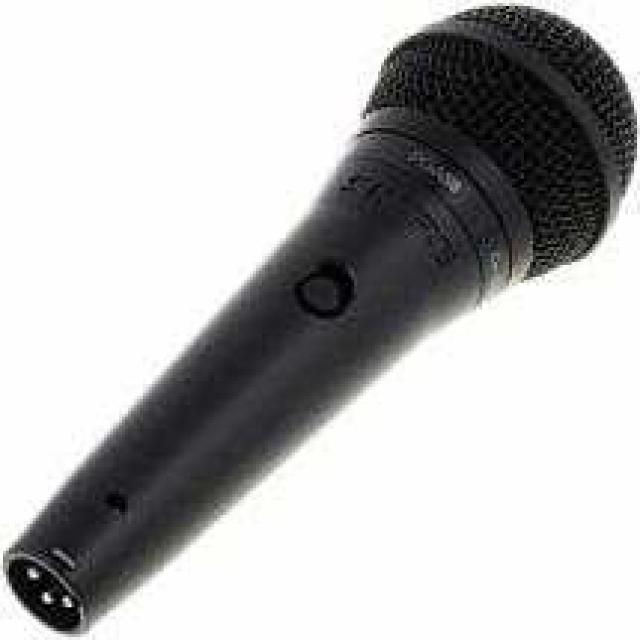microphone: (19, 4, 630, 619)
